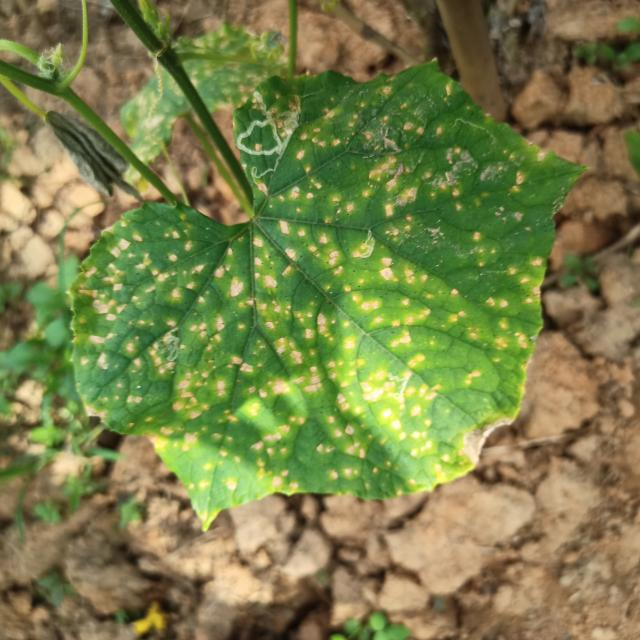disease_cucumber: (94, 104, 531, 496)
